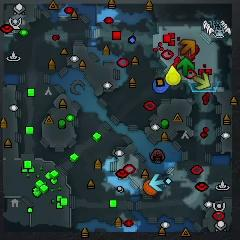p1: (152, 77, 171, 94)
p4: (165, 66, 181, 86)
p5: (143, 179, 159, 196)
x2: (193, 73, 211, 91)
x3: (150, 173, 168, 192)
x4: (177, 57, 195, 78)
x5: (180, 40, 197, 55)
